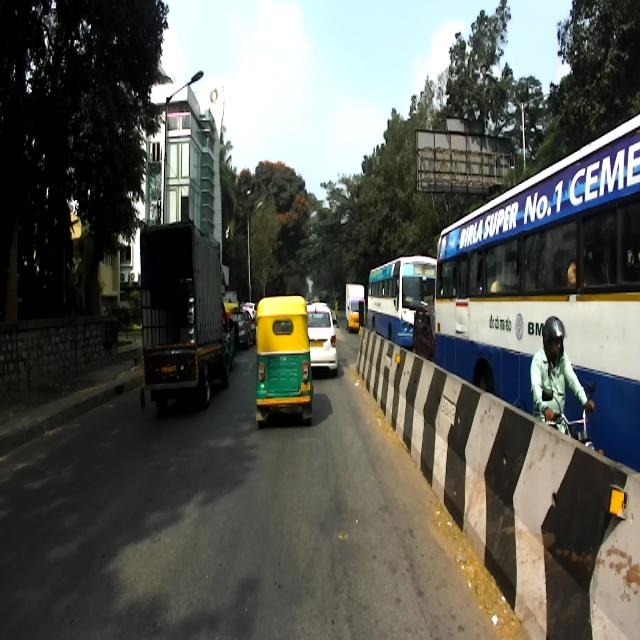auto ahead at: (256, 300, 312, 418)
truck ahead at: (140, 216, 230, 412)
